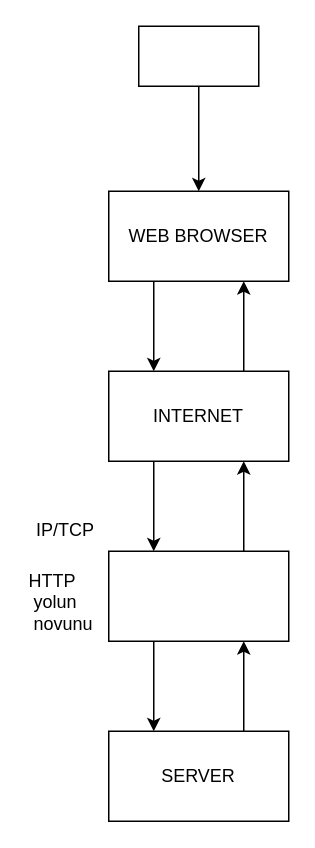
Image size: 315x848. Some labels were removed from this diagram. The shapes that lost their labels are listed below. From the top down, each one's centre as x and y in pixels, then its label:
At point (198, 55): "USER".
At point (198, 595): "DNS".
